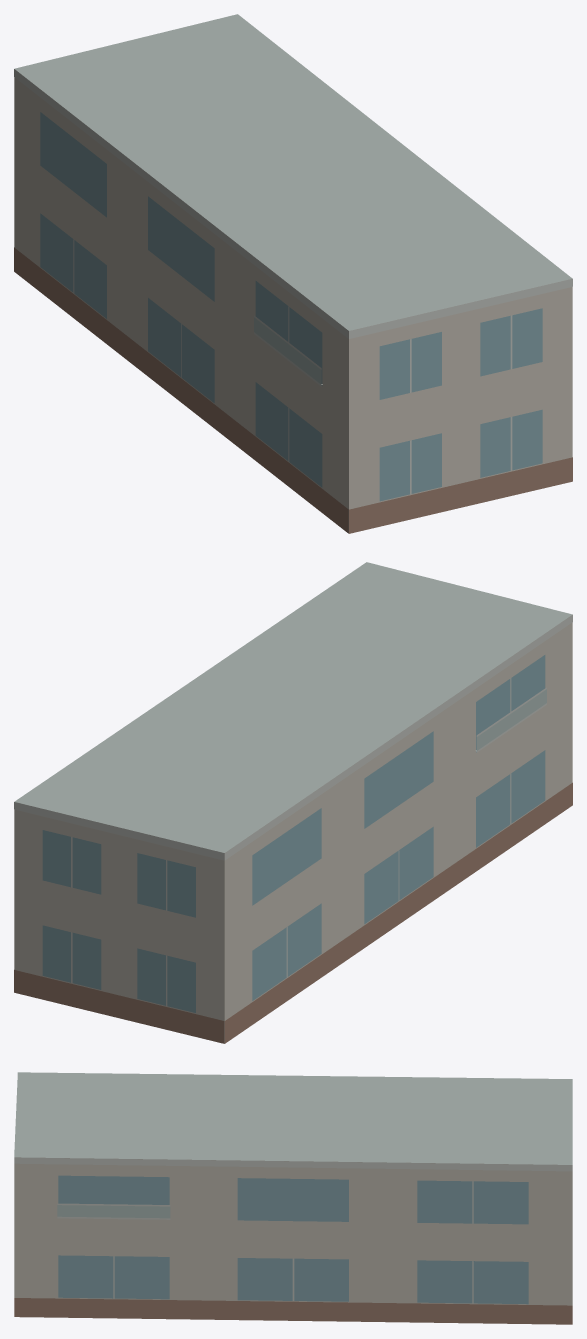
File: survey-upis-32566285.glb
3 renders of one model, top to bottom at view 1: azimuth 30°, elevation 25°; view 2: azimuth 150°, elevation 25°; view 3: azimuth 270°, elevation 25°, orthographic. The views are drawn at different scales.
Parts seen in each view (by area): view 1: survey-upis-32566285.tmp; view 2: survey-upis-32566285.tmp; view 3: survey-upis-32566285.tmp.
Part boxes in pixels (left/top/right/bottom): survey-upis-32566285.tmp: left=14, top=14, right=572, bottom=533; survey-upis-32566285.tmp: left=14, top=562, right=572, bottom=1043; survey-upis-32566285.tmp: left=14, top=1072, right=572, bottom=1324.
Size of the model in its own units: 7.61 by 6.1 by 19.36.
